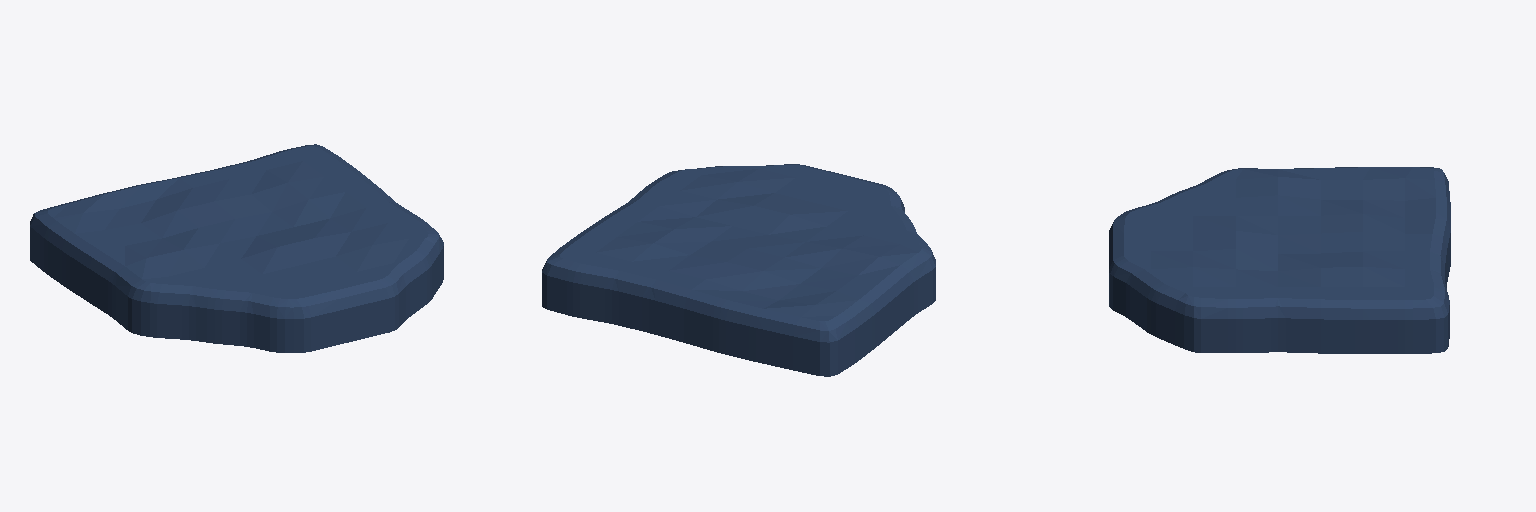
File: floor-tile-3.obj
3 views of the same model, side by side, from view 1: azimuth 30°, elevation 25°; view 2: azimuth 150°, elevation 25°; view 3: azimuth 270°, elevation 25° (orthographic).
Parts seen in each view (by area): view 1: Plane; view 2: Plane; view 3: Plane.
Part boxes in pixels (x1,y1,x2,y2): Plane: (30,144,443,352); Plane: (542,164,935,376); Plane: (1109,167,1450,353).
Size of the model in its own units: 0.9165 by 0.1493 by 0.9097.